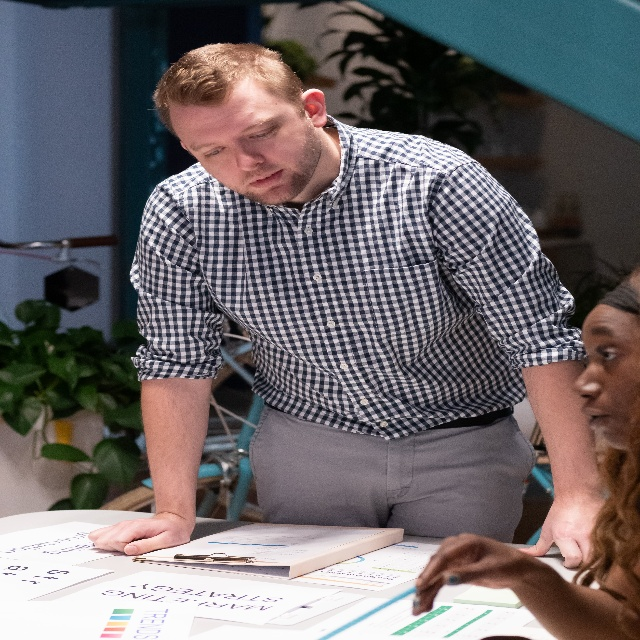Sin_guantes: (413, 525, 525, 618), (517, 489, 608, 571), (86, 512, 194, 555)
